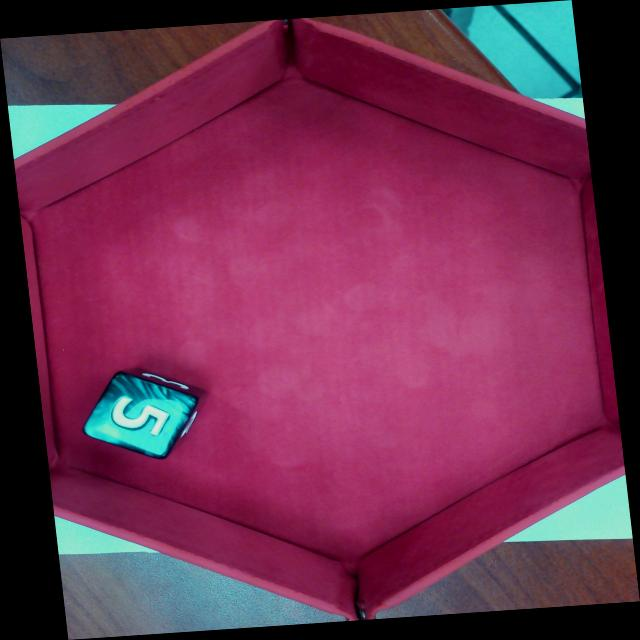dice: (78, 369, 202, 463)
